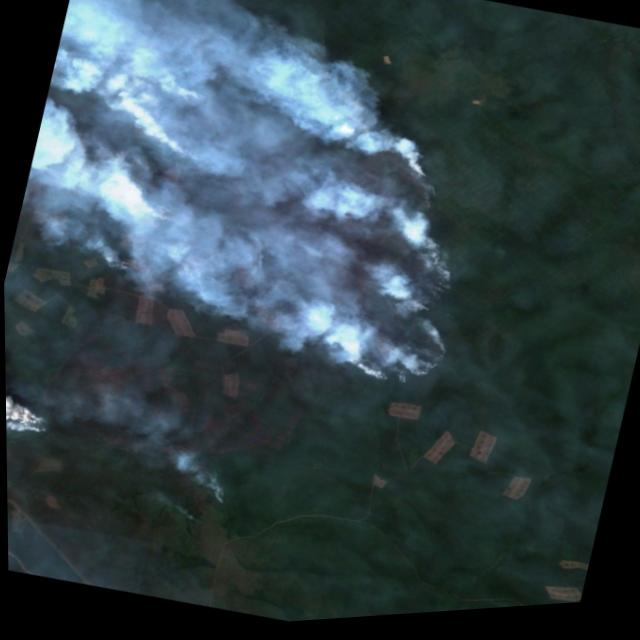fire: (273, 89, 511, 426), (53, 43, 234, 300), (5, 389, 68, 455)
